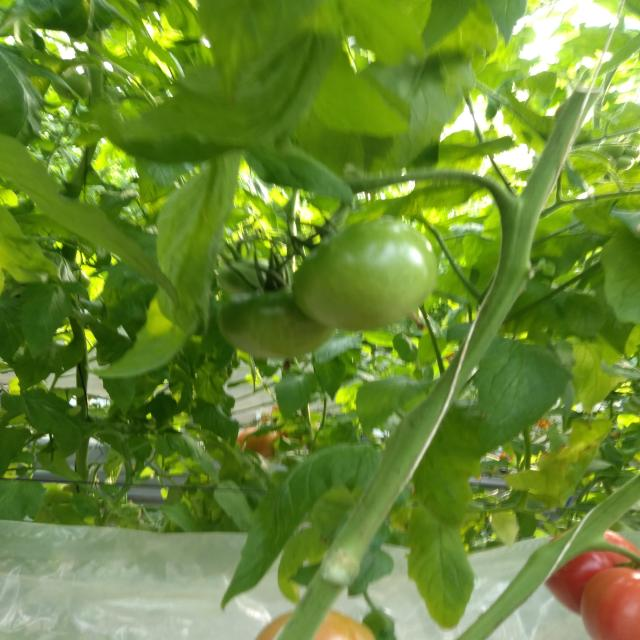yesil: (223, 158, 460, 400)
